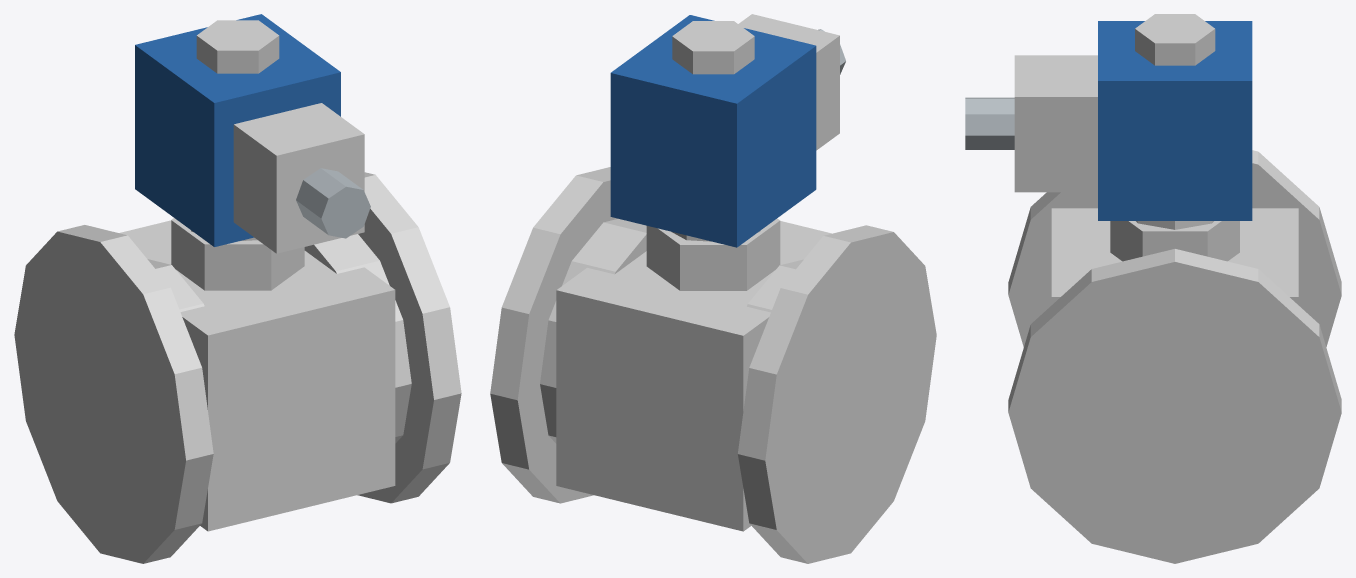
File: valve-solenoid.glb
3 views of the same model, side by side, from view 1: azimuth 30°, elevation 25°; view 2: azimuth 150°, elevation 25°; view 3: azimuth 270°, elevation 25° (orthographic). The views are drawn at different scales.
Visible parts, largest first — view 1: in.flange, body, coil, out.flange, cable.plug, bonnet.hex, coil.retainer, cable.gland, out.stub, in.stub; view 2: in.flange, body, coil, out.flange, bonnet.hex, out.stub, cable.plug, coil.retainer, in.stub; view 3: out.flange, coil, cable.plug, in.flange, body, bonnet.hex, coil.retainer, cable.gland.
Boxes of the visible parts, x1,y1,x2,y2 form: in.flange: [14, 225, 213, 563]; body: [119, 220, 395, 531]; coil: [135, 14, 340, 246]; out.flange: [357, 172, 461, 503]; cable.plug: [233, 103, 364, 253]; bonnet.hex: [171, 218, 304, 290]; coil.retainer: [196, 20, 279, 73]; cable.gland: [296, 168, 370, 238]; out.stub: [304, 234, 411, 443]; in.stub: [147, 259, 204, 311]; in.flange: [738, 225, 936, 563]; body: [556, 221, 831, 531]; coil: [610, 15, 816, 247]; out.flange: [490, 167, 617, 503]; bonnet.hex: [646, 218, 780, 290]; out.stub: [540, 218, 646, 443]; cable.plug: [738, 14, 839, 150]; coil.retainer: [672, 21, 754, 74]; in.stub: [747, 259, 803, 312]; out.flange: [1008, 249, 1341, 563]; coil: [1098, 21, 1252, 220]; cable.plug: [1014, 55, 1097, 192]; in.flange: [1008, 150, 1341, 347]; body: [1051, 208, 1298, 304]; bonnet.hex: [1110, 221, 1239, 261]; coil.retainer: [1135, 14, 1215, 65]; cable.gland: [965, 97, 1014, 149].
Size of the model in its own units: 0.5 by 0.84 by 0.61.
